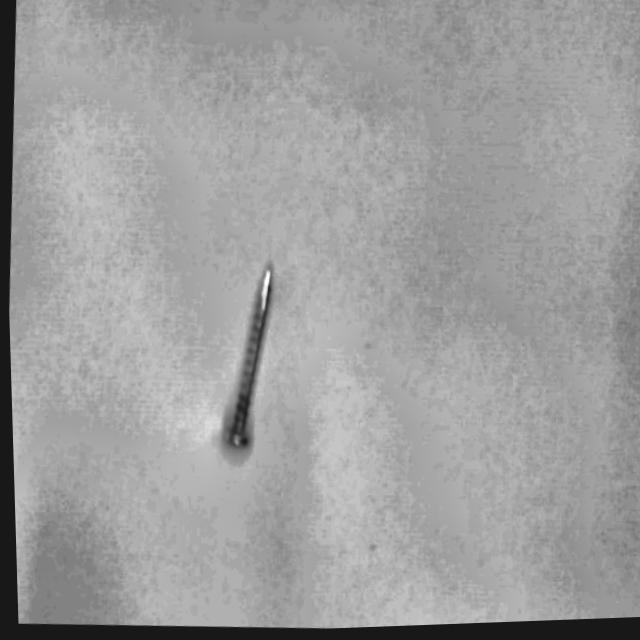Sheet metal screw: (217, 269, 276, 457)
